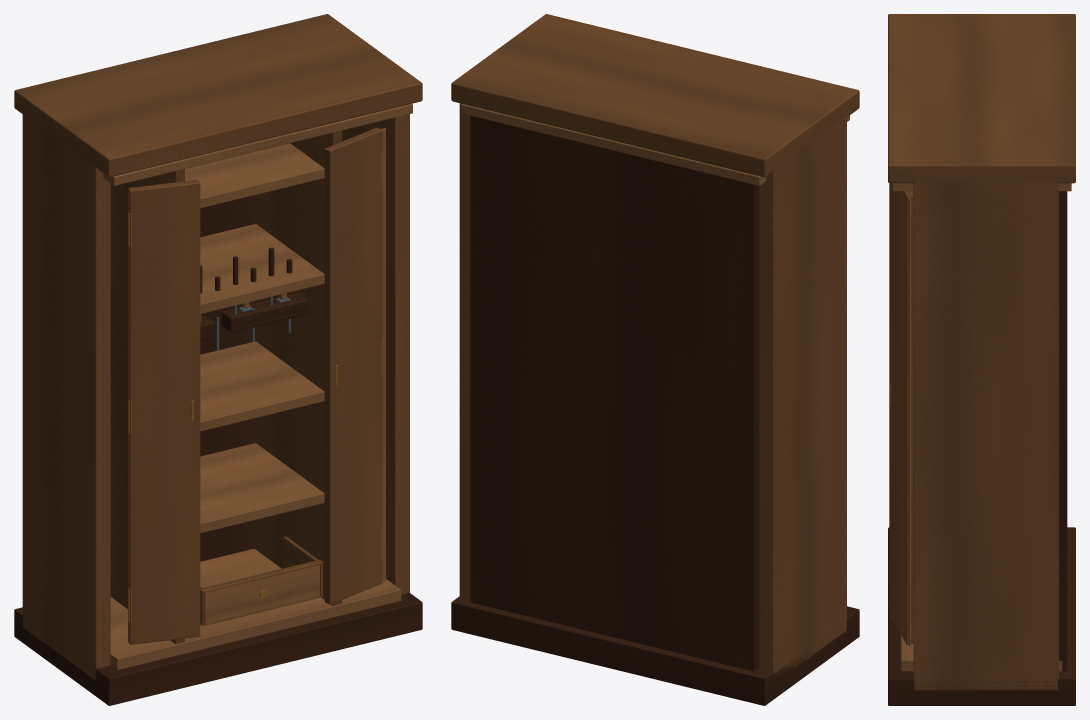
File: asset.glb
3 renders of one model, left to right at view 1: azimuth 30°, elevation 25°; view 2: azimuth 150°, elevation 25°; view 3: azimuth 270°, elevation 25°, orthographic.
Visible parts, largest first — view 1: MaterialBatch_Room_furniture_quarter-sawn_oak, MaterialBatch_Room_furniture_light_oak, MaterialBatch_Room_furniture_smoked_walnut, MaterialBatch_Room_furniture_aged_brass; view 2: MaterialBatch_Room_furniture_smoked_walnut, MaterialBatch_Room_furniture_quarter-sawn_oak, MaterialBatch_Room_furniture_light_oak; view 3: MaterialBatch_Room_furniture_quarter-sawn_oak, MaterialBatch_Room_furniture_smoked_walnut, MaterialBatch_Room_furniture_light_oak.
Boxes of the visible parts, x1,y1,x2,y2 form: MaterialBatch_Room_furniture_quarter-sawn_oak: [14, 14, 422, 680]; MaterialBatch_Room_furniture_light_oak: [103, 103, 412, 669]; MaterialBatch_Room_furniture_smoked_walnut: [14, 195, 422, 705]; MaterialBatch_Room_furniture_aged_brass: [128, 151, 382, 623]; MaterialBatch_Room_furniture_smoked_walnut: [451, 115, 859, 705]; MaterialBatch_Room_furniture_quarter-sawn_oak: [451, 14, 859, 676]; MaterialBatch_Room_furniture_light_oak: [461, 103, 849, 185]; MaterialBatch_Room_furniture_quarter-sawn_oak: [888, 14, 1075, 690]; MaterialBatch_Room_furniture_smoked_walnut: [888, 191, 1075, 705]; MaterialBatch_Room_furniture_light_oak: [892, 183, 1071, 671].
Size of the model in its own units: 42 by 69.9 by 22.
Materials: 5 (5 with a texture image).
